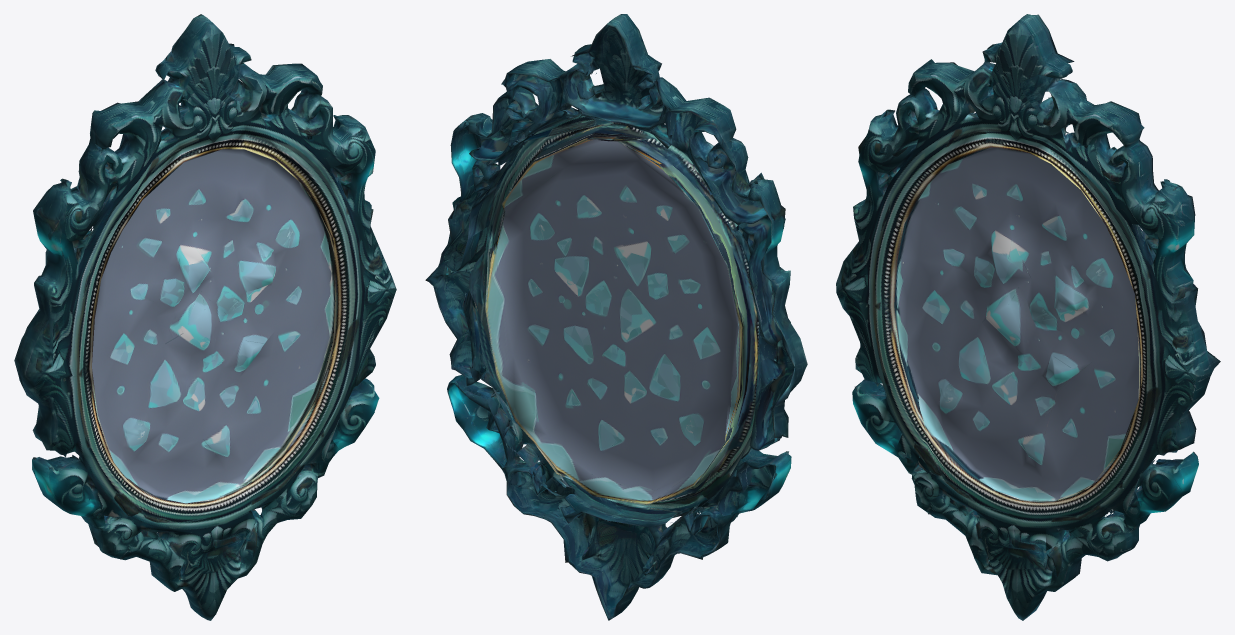
Rendered from z4_mirror.glb.
3 views of the same model, side by side, from view 1: azimuth 30°, elevation 25°; view 2: azimuth 150°, elevation 25°; view 3: azimuth 330°, elevation 25° (orthographic).
Bounding box in the file's own units: 1.23 × 1.9 × 0.1442.
1 material, 1 textured.
